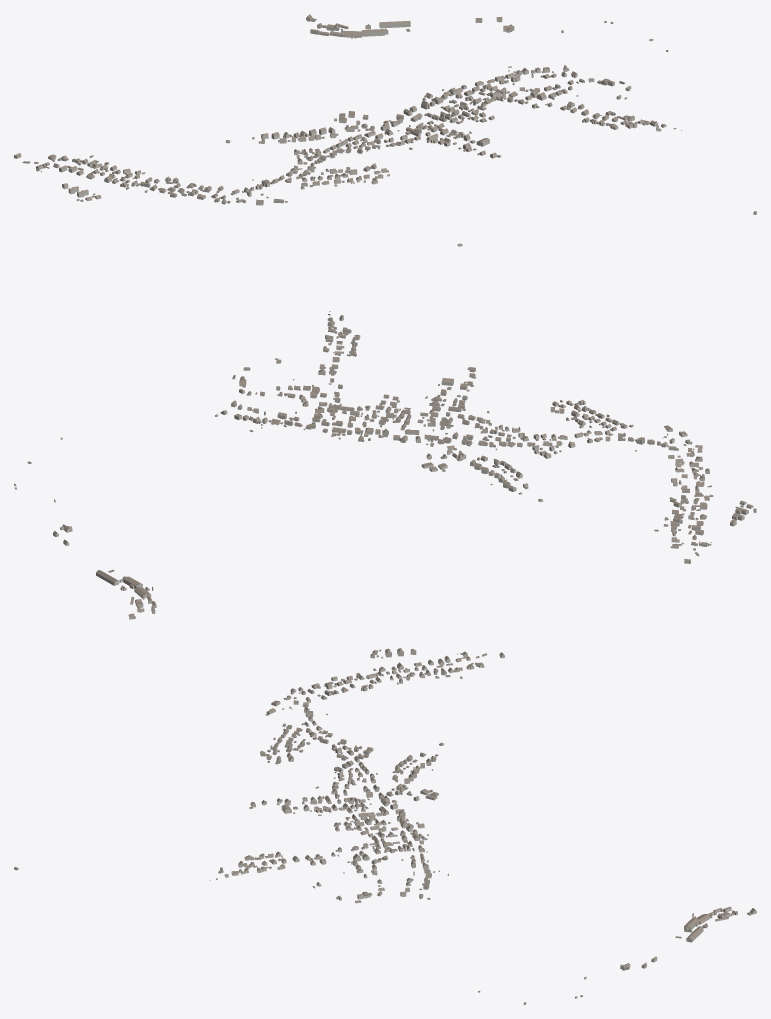
The model's file is buildings.glb.
3 views of the same model, one above another, from view 1: azimuth 30°, elevation 25°; view 2: azimuth 150°, elevation 25°; view 3: azimuth 270°, elevation 25° (orthographic). The views are drawn at different scales.
Visible parts, largest first — view 1: WallSurface, RoofSurface; view 2: WallSurface, RoofSurface; view 3: WallSurface, RoofSurface.
Part boxes in pixels (x1=…): WallSurface: x1=14, y1=16, x2=756, y2=214; RoofSurface: x1=16, y1=14, x2=756, y2=213; WallSurface: x1=14, y1=244, x2=756, y2=619; RoofSurface: x1=14, y1=243, x2=756, y2=617; WallSurface: x1=14, y1=649, x2=756, y2=1004; RoofSurface: x1=14, y1=648, x2=754, y2=1003.
Size of the model in its own units: 1845 by 227 by 1912.
